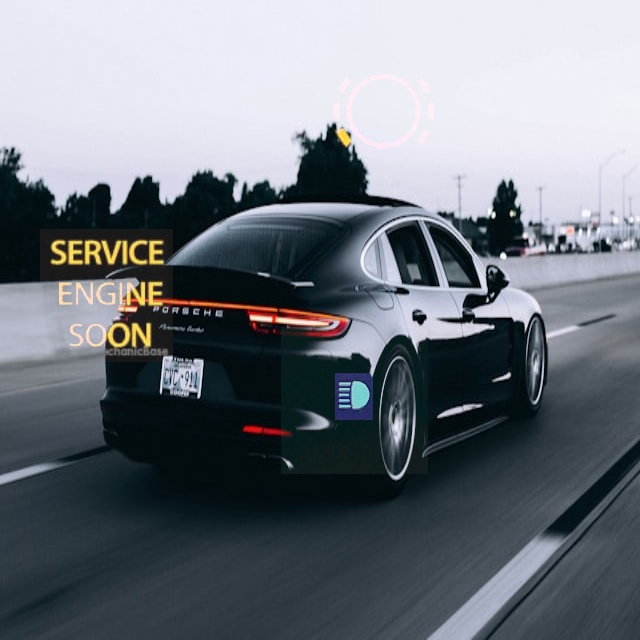symbol: (281, 327, 428, 474), (310, 39, 457, 186), (40, 229, 173, 362)
